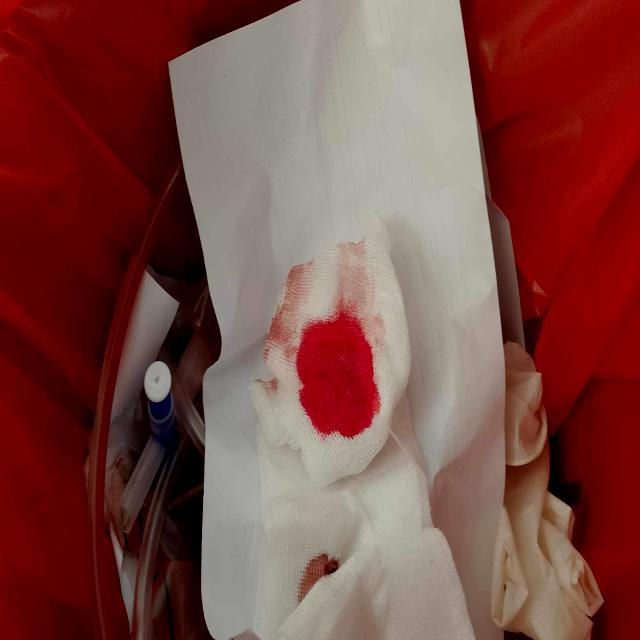General: (244, 208, 476, 636), (83, 153, 223, 637)
Infectious: (169, 0, 508, 638), (250, 205, 412, 488)
Sharps: (116, 359, 178, 540)
